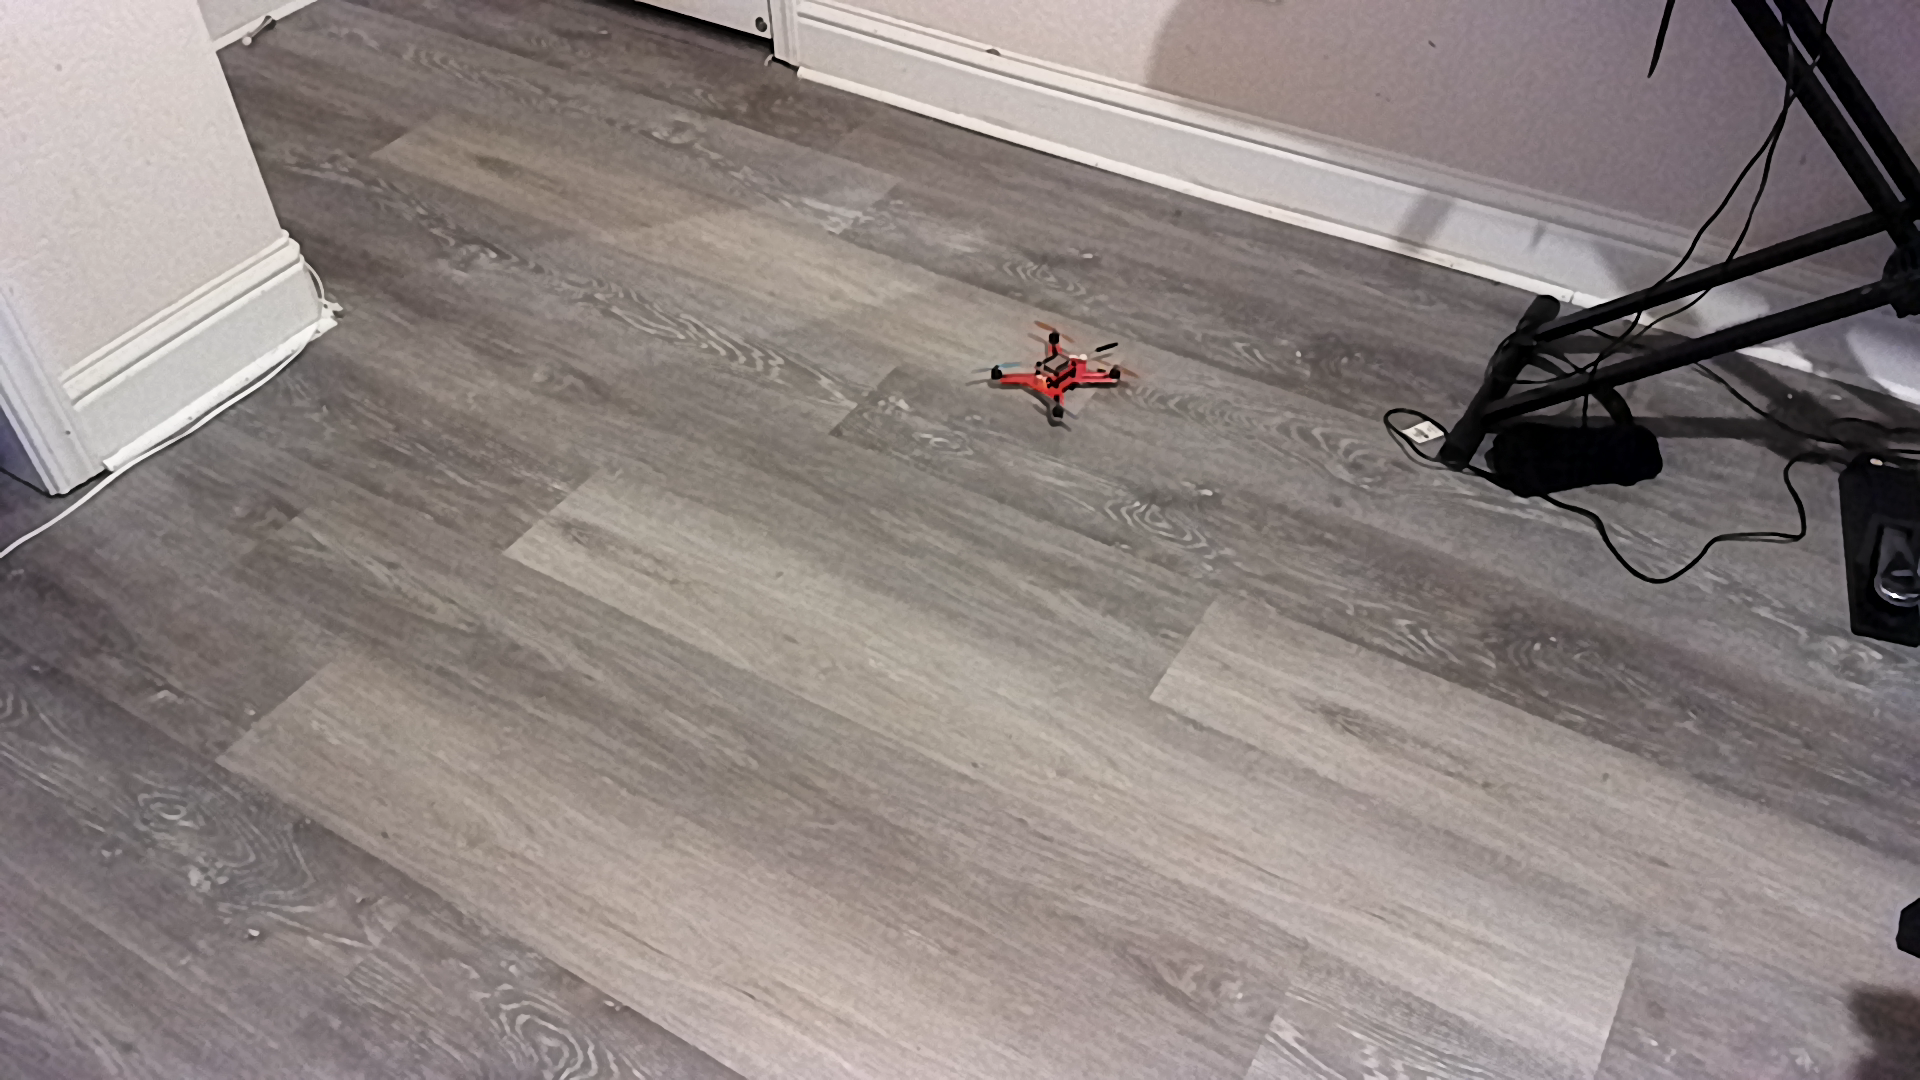drone: (971, 318, 1156, 439)
